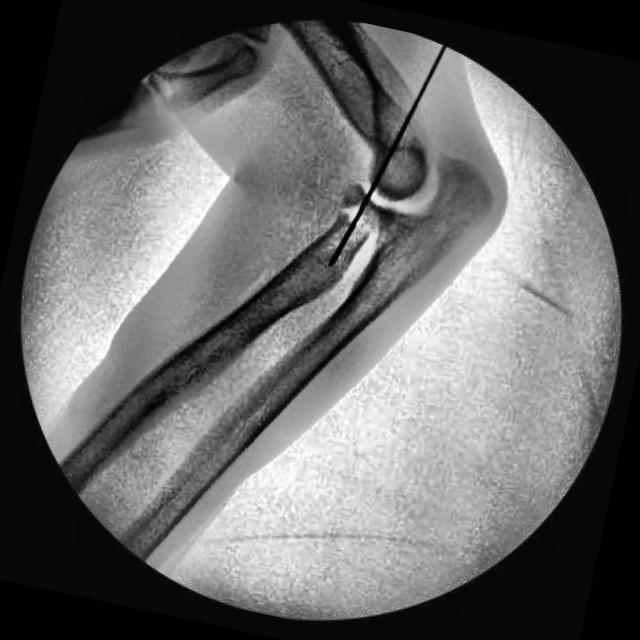elbow positive: (327, 169, 416, 264)
